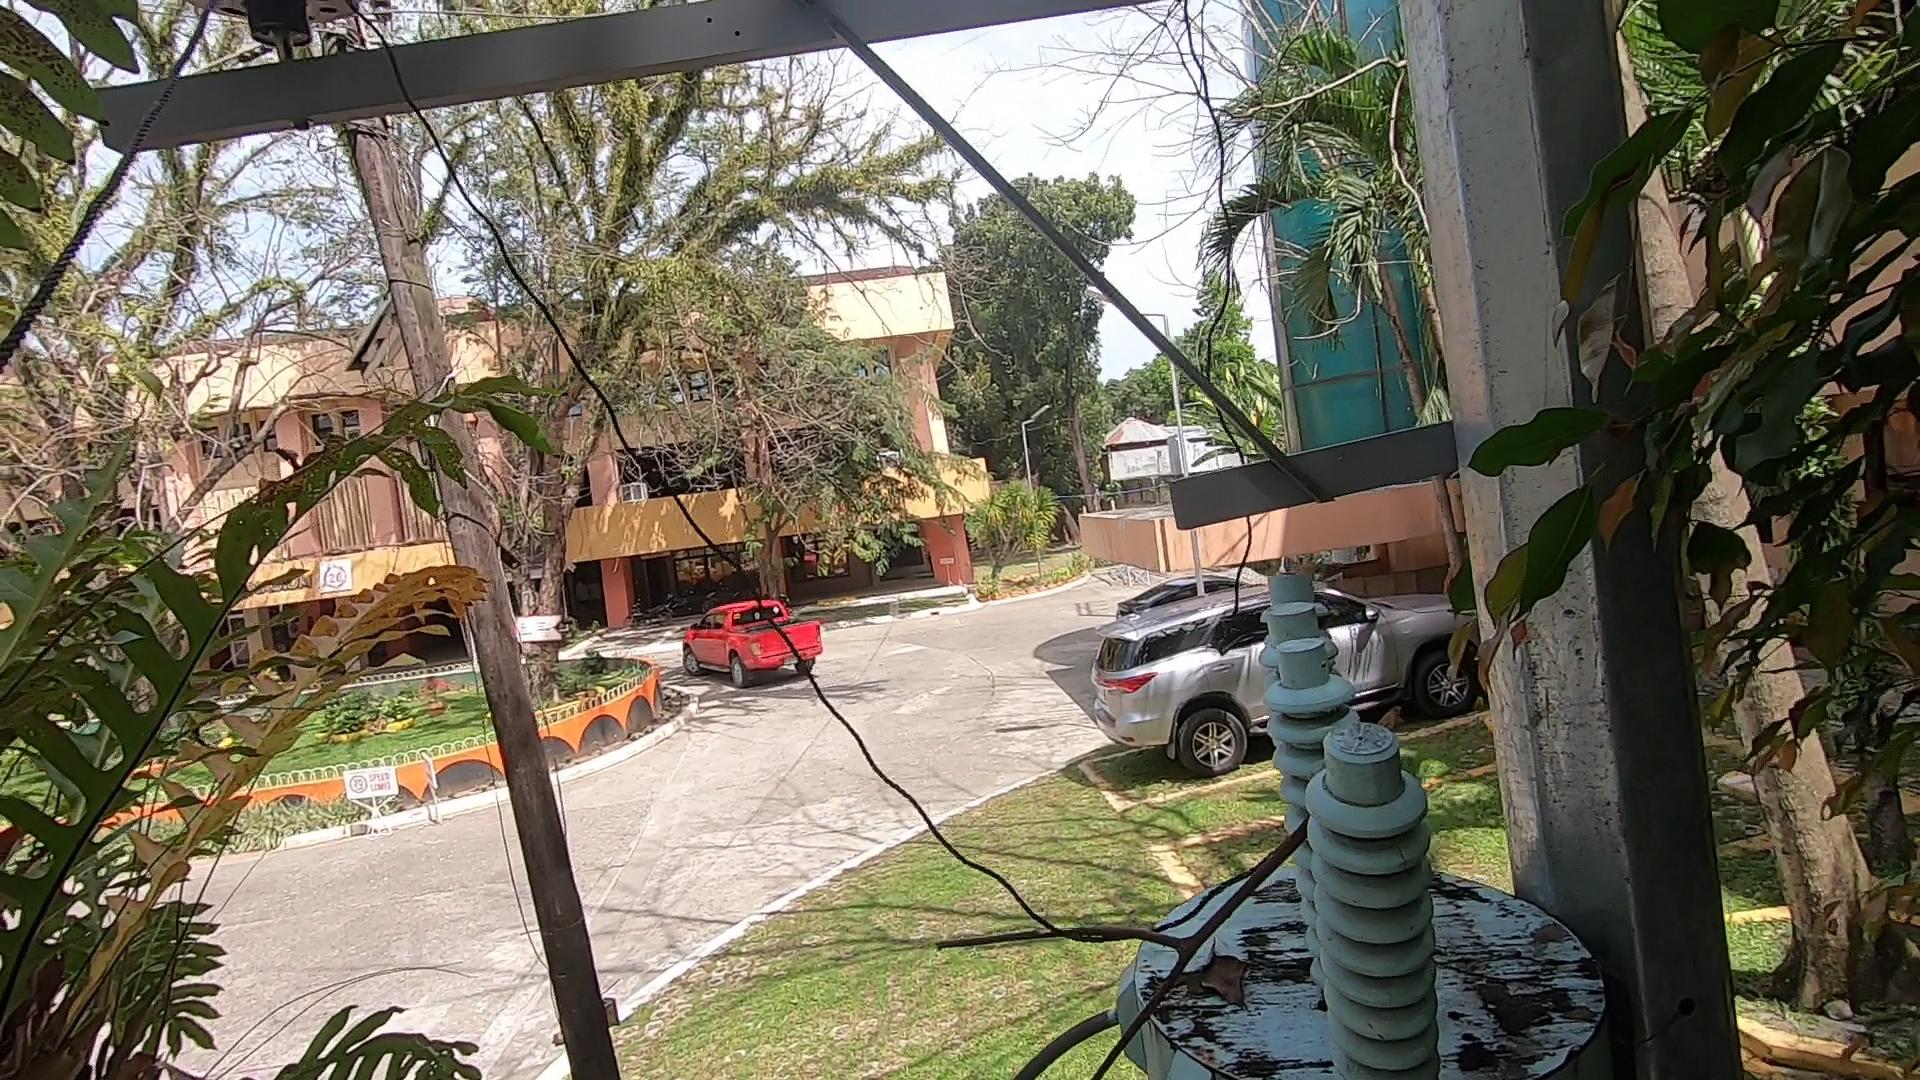leaf: (1185, 939, 1267, 1014)
tree branch: (902, 777, 1335, 1080)
